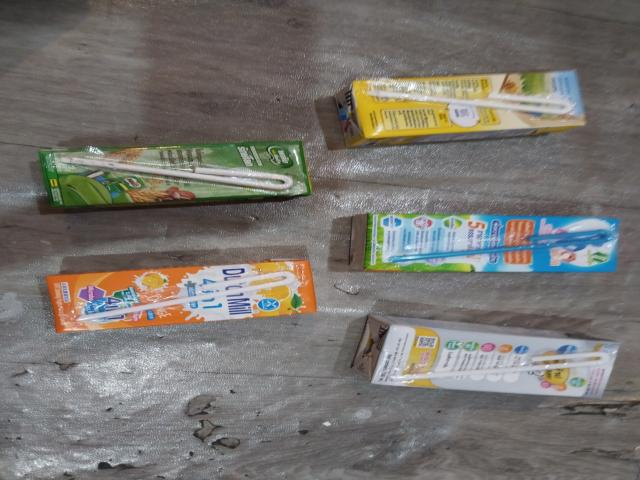drink_box: (348, 310, 618, 401), (350, 206, 627, 277), (324, 70, 590, 141), (32, 266, 324, 329), (28, 142, 311, 207)
